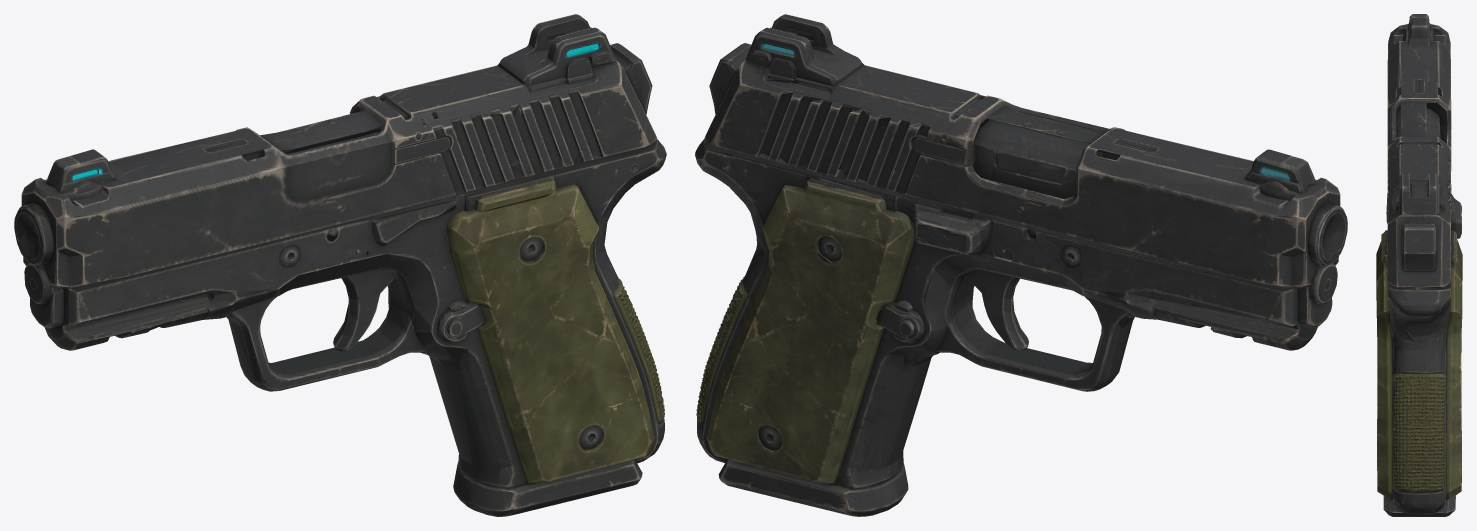
File: pistola.glb
3 views of the same model, side by side, from view 1: azimuth 30°, elevation 25°; view 2: azimuth 150°, elevation 25°; view 3: azimuth 270°, elevation 25° (orthographic). The views are drawn at different scales.
Parts seen in each view (by area): view 1: output_unwrapped; view 2: output_unwrapped; view 3: output_unwrapped.
Boxes of the visible parts, x1,y1,x2,y2 form: output_unwrapped: (14, 14, 666, 516); output_unwrapped: (695, 14, 1347, 516); output_unwrapped: (1376, 14, 1462, 516).
Size of the model in its own units: 1.9 by 1.31 by 0.3203.
Materials: 1 (1 with a texture image).
